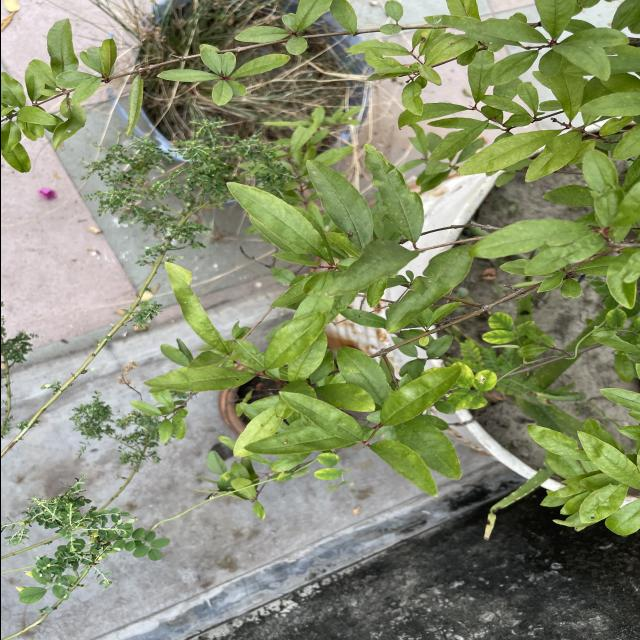Breeding Place: (317, 138, 640, 488), (132, 0, 381, 157), (214, 362, 340, 456)
